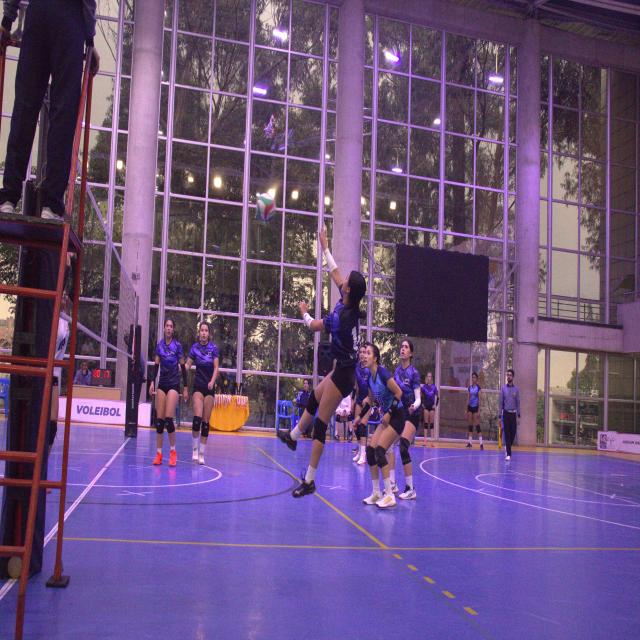volleyball: (256, 193, 276, 222)
